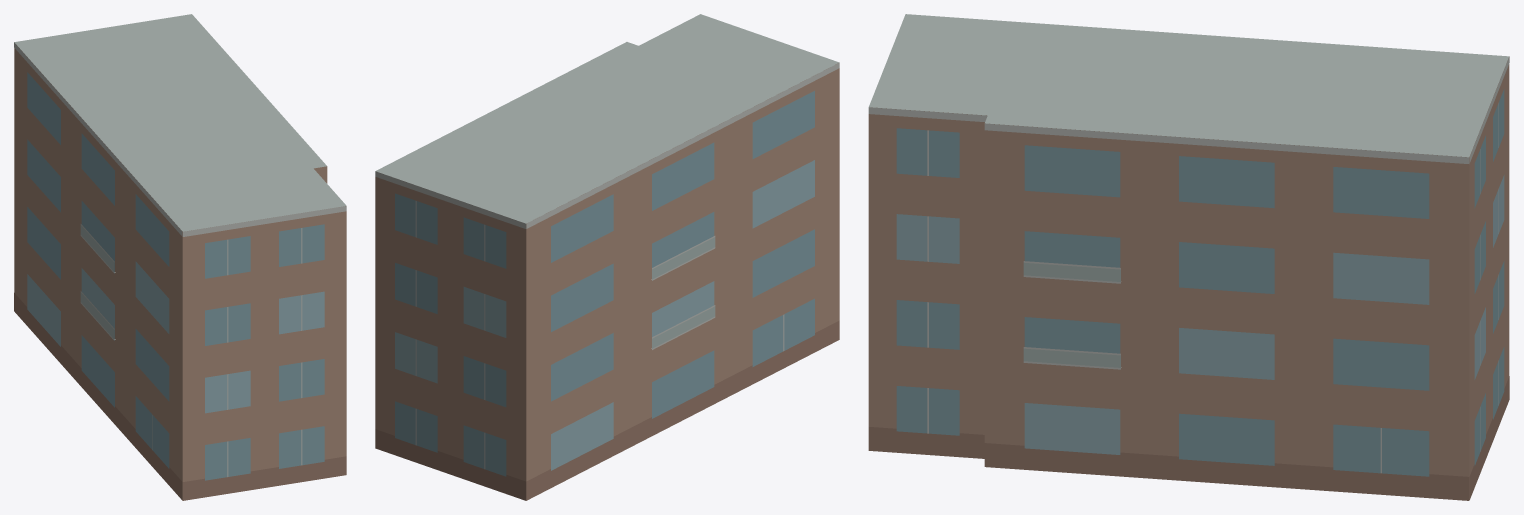
File: survey-upis-33039084.glb
The picture shows the model from 3 angles, left to right: view 1: azimuth 30°, elevation 25°; view 2: azimuth 150°, elevation 25°; view 3: azimuth 270°, elevation 25°; orthographic projection. The views are drawn at different scales.
Parts seen in each view (by area): view 1: survey-upis-33039084.tmp; view 2: survey-upis-33039084.tmp; view 3: survey-upis-33039084.tmp.
Part boxes in pixels (x1,y1,x2,y2): survey-upis-33039084.tmp: (14,14,346,500); survey-upis-33039084.tmp: (375,14,839,500); survey-upis-33039084.tmp: (868,14,1509,500).
Size of the model in its own units: 10.92 by 12.2 by 20.63.
